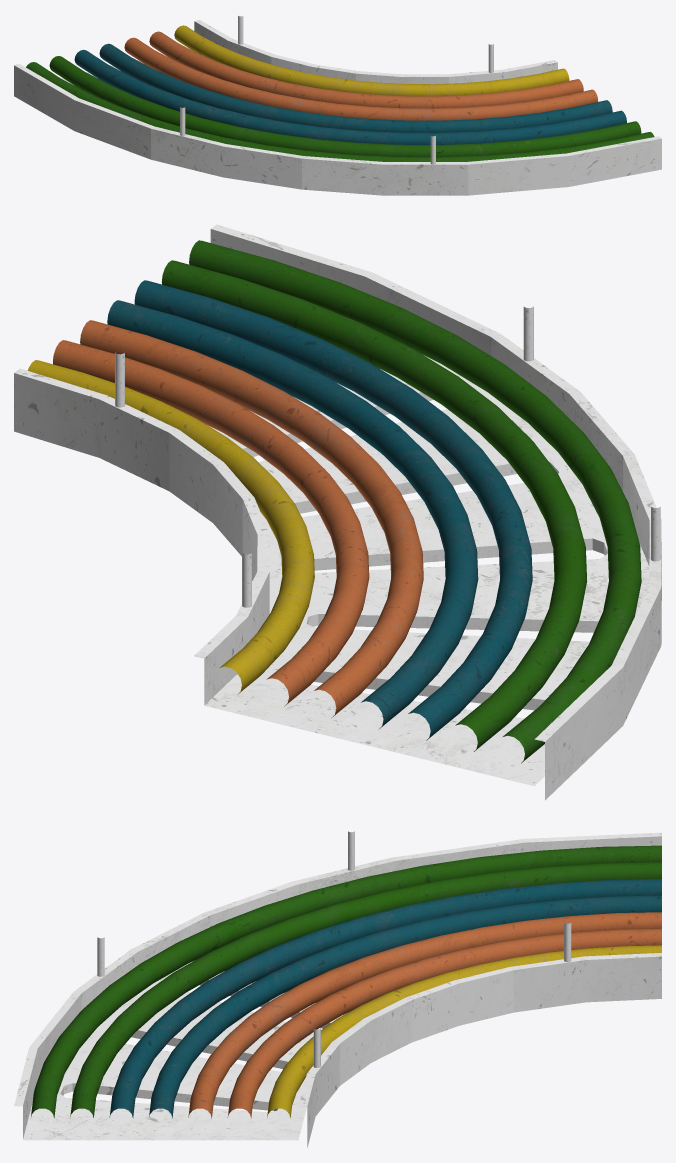
The model's file is SM_Ceiling_Cables_45.glb.
3 renders of one model, top to bottom at view 1: azimuth 30°, elevation 25°; view 2: azimuth 150°, elevation 25°; view 3: azimuth 270°, elevation 25°, orthographic. The views are drawn at different scales.
Visible parts, largest first — view 1: SM_Ceiling_Cables_45; view 2: SM_Ceiling_Cables_45; view 3: SM_Ceiling_Cables_45.
Boxes of the visible parts, x1,y1,x2,y2 form: SM_Ceiling_Cables_45: (14, 16, 661, 195); SM_Ceiling_Cables_45: (14, 224, 661, 800); SM_Ceiling_Cables_45: (14, 831, 661, 1147).
Size of the model in its own units: 0.8229 by 0.1134 by 0.8229.
Materials: 5 (5 with a texture image).
